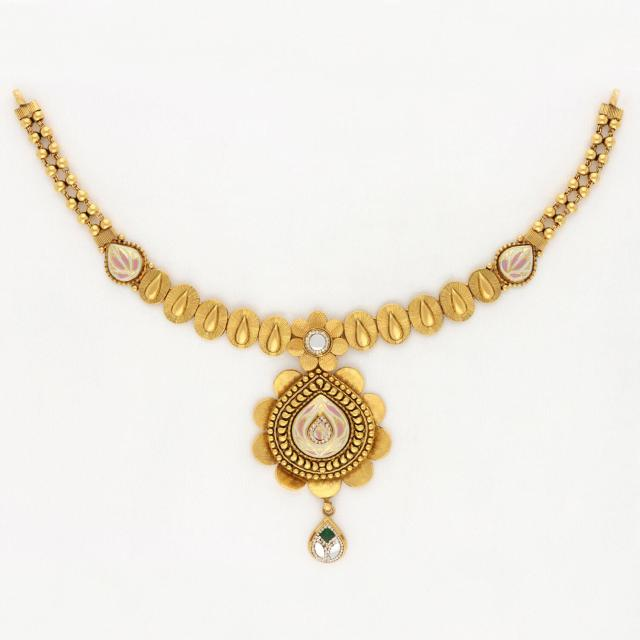missing gem: (314, 420, 327, 440)
